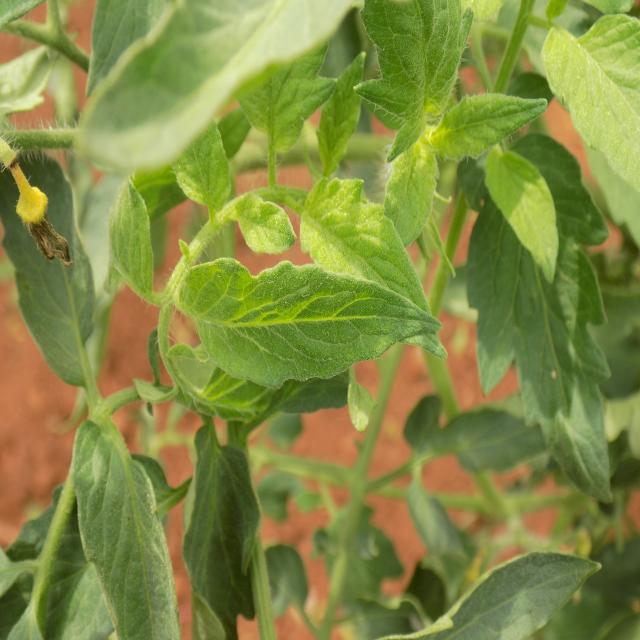tomato_healthy: (458, 121, 618, 514), (160, 254, 447, 378), (298, 182, 454, 370), (398, 389, 550, 482), (435, 83, 540, 165)
